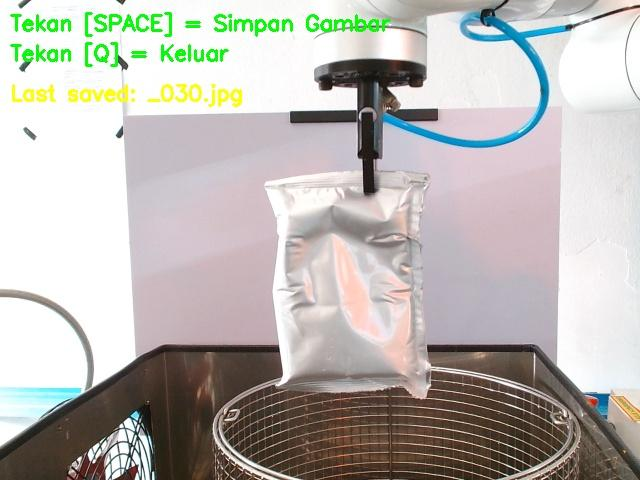retort-pouch: (262, 169, 436, 398)
